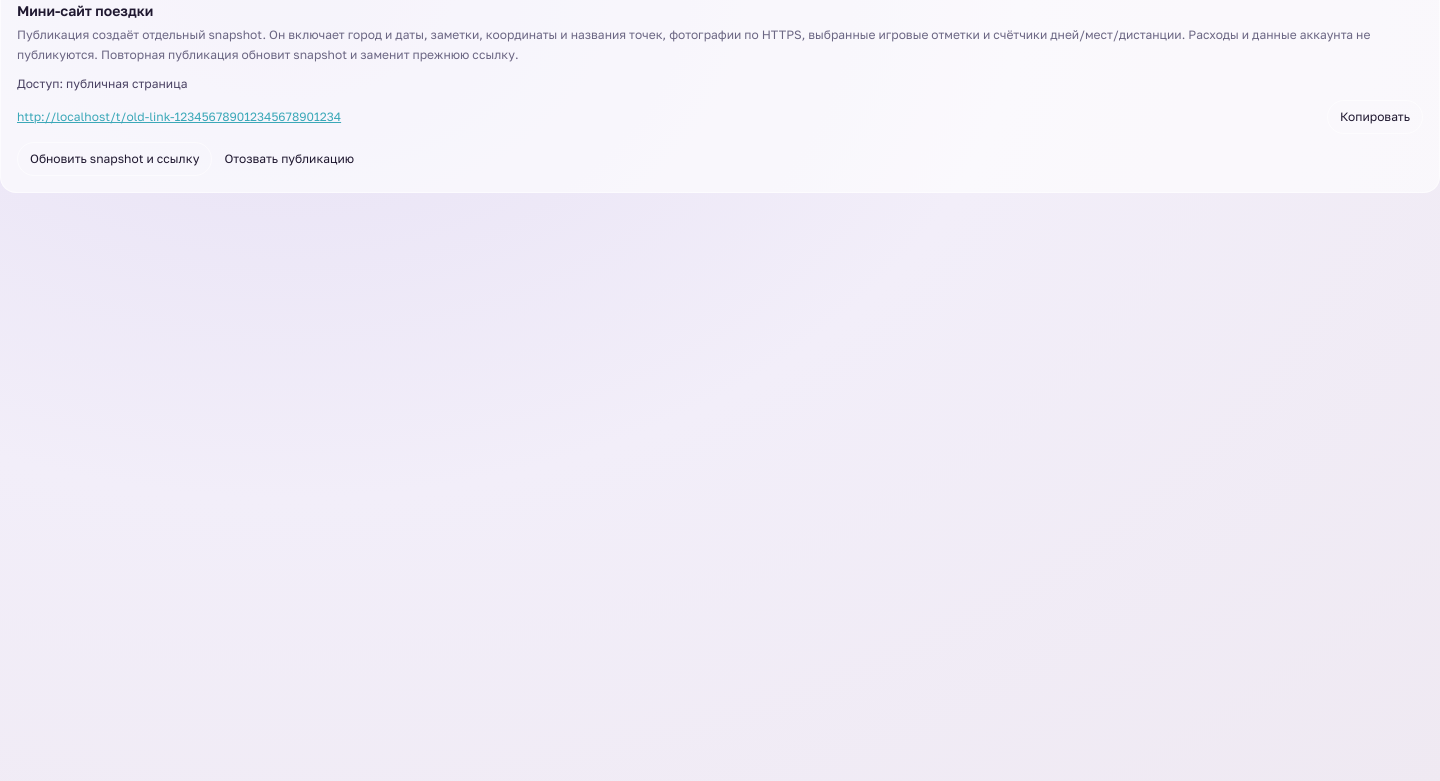
Test case: TripMiniSiteControls › keeps the current link live until the owner reviews and consents to a refreshed snapshot
Click the button "Обновить snapshot и ссылку". click: (115,159)
box: [17,142,212,176]
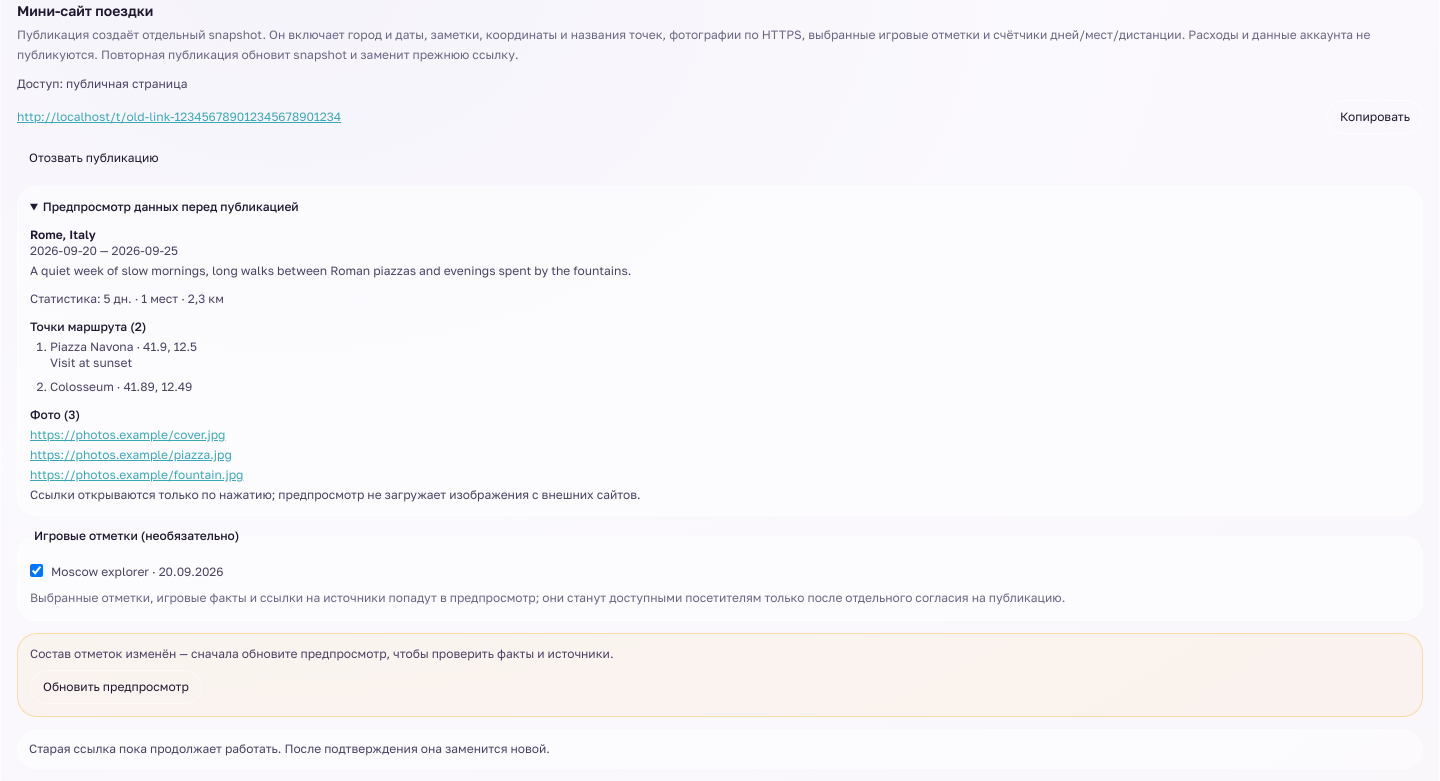
Result: the text "Старая ссылка пока продолжает работать. После подтверждения она заменится новой." is shown at [17,728,1423,768]
Result: the checkbox labelled "Moscow explorer · 20.09.2026" is checked at [30,564,43,577]
Click the button "Обновить предпросмотр". click: (116,686)
box: [30,670,202,704]
(page scrolled)
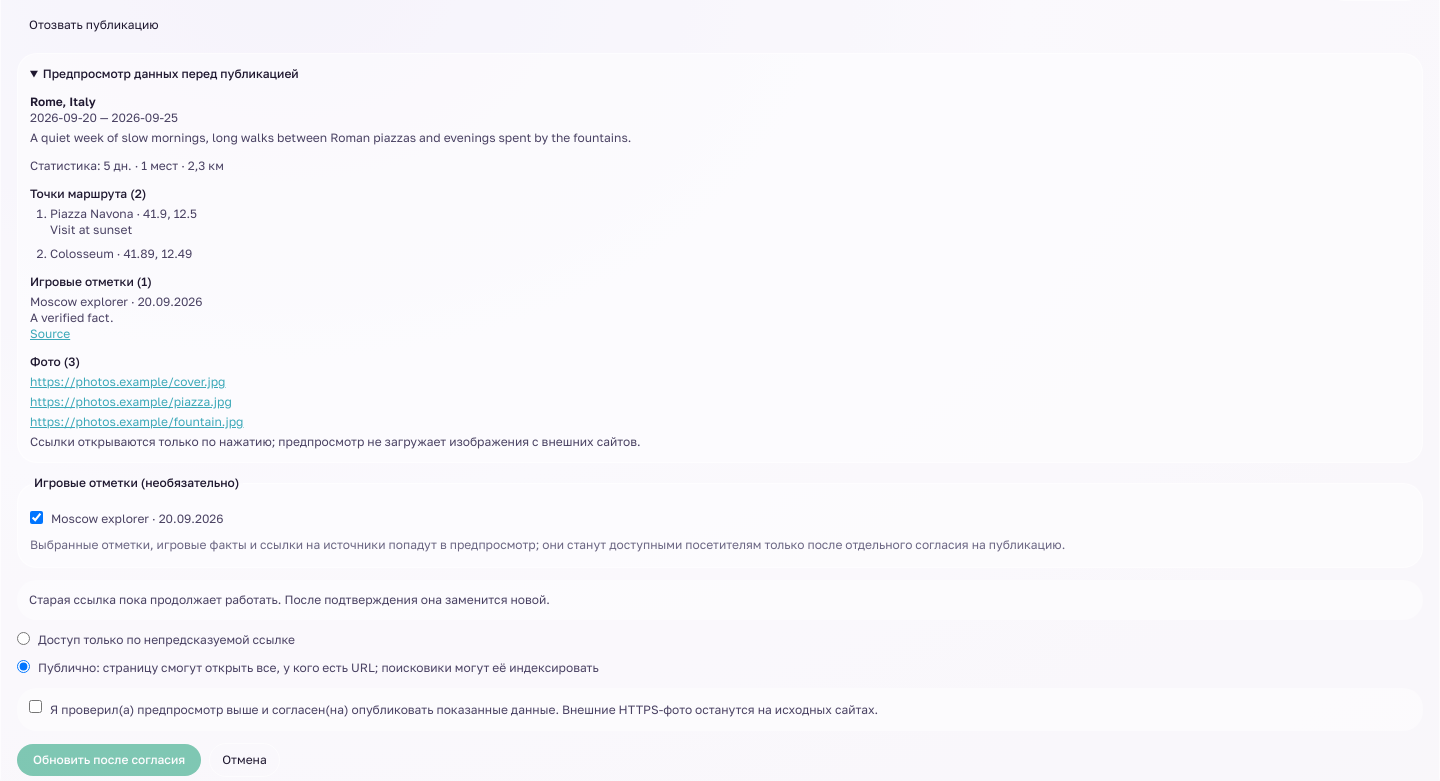
Result: the button "Обновить после согласия" is disabled at [17,744,201,776]
Result: the text "A verified fact." is shown at [30,310,114,325]
Click the checkbox labelled "согласен(на) опубликовать показанные данные". click: (36,706)
box: [29,700,42,712]
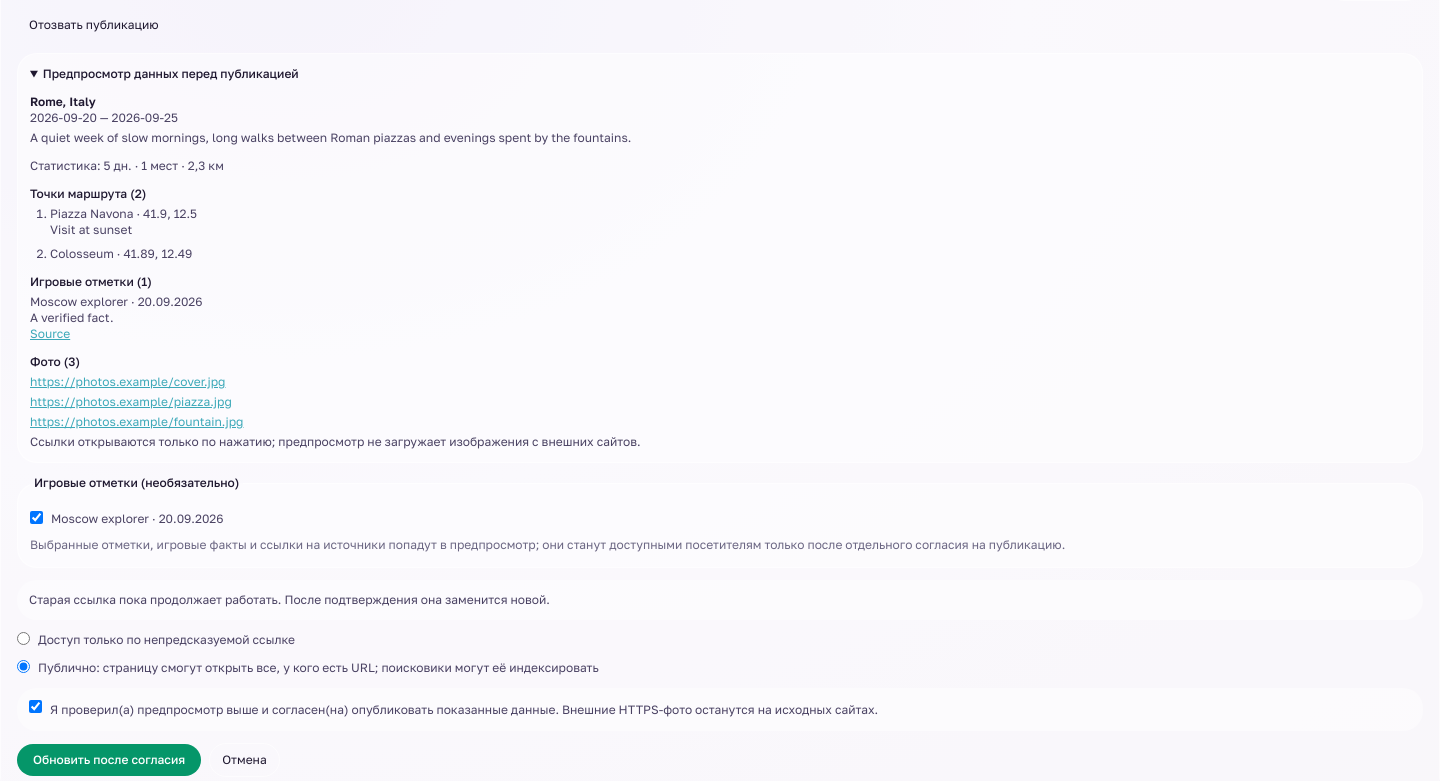
Click the button "Обновить после согласия". click: (109,760)
box: [17,744,201,776]
(page scrolled)
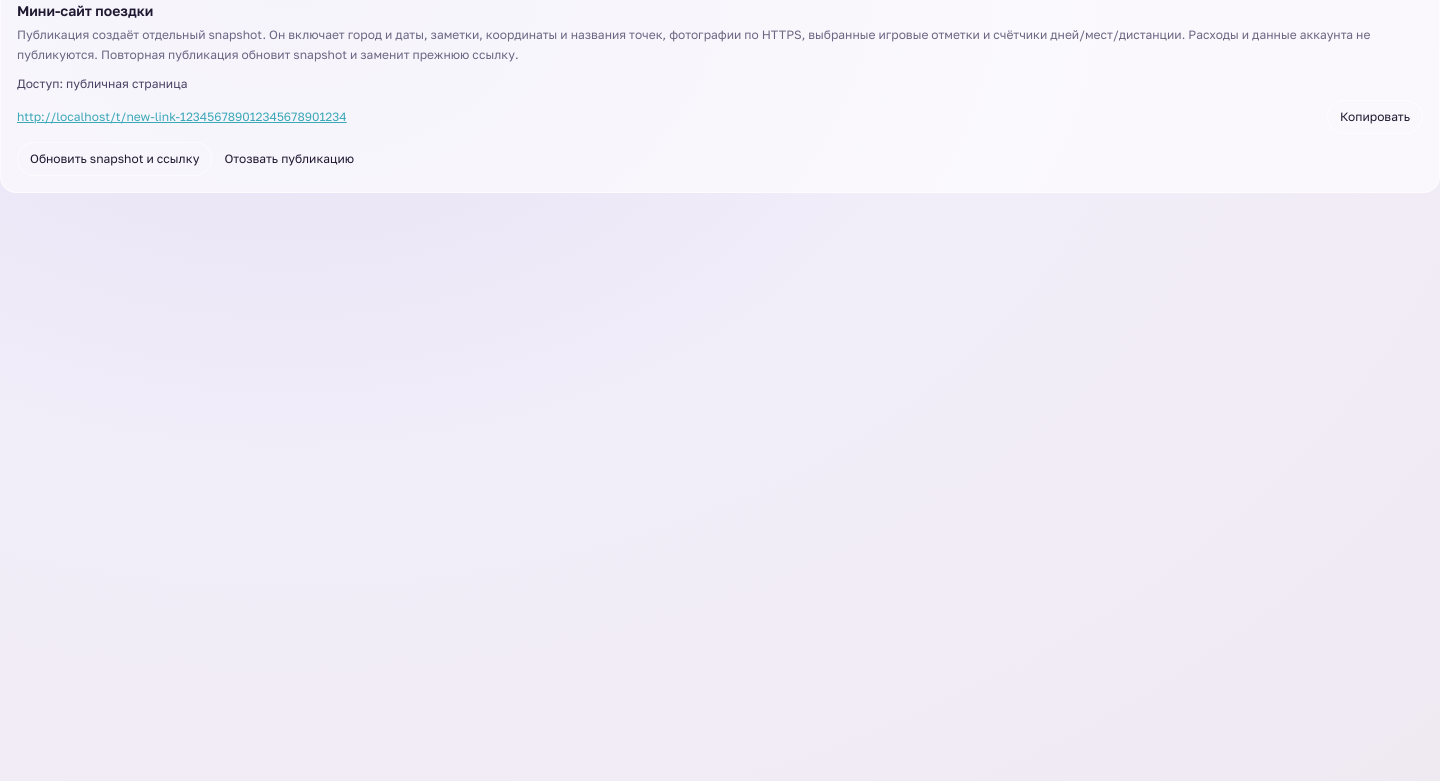
Result: the link "http://localhost/t/new-link-123456789012345678901234" is shown at [17,109,347,124]
